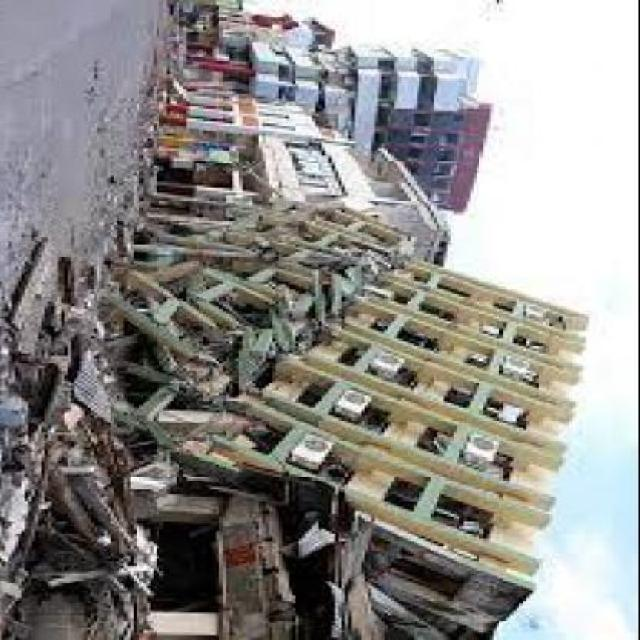Destroyed_building: (0, 3, 633, 640)
